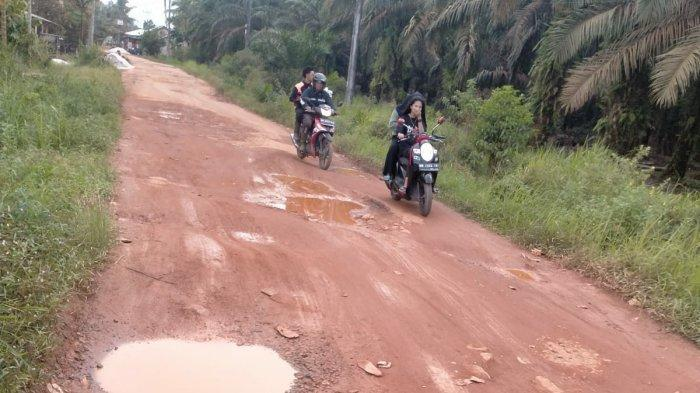Pothole: (243, 138, 404, 253), (88, 314, 320, 393), (484, 254, 602, 299), (145, 89, 224, 150)
